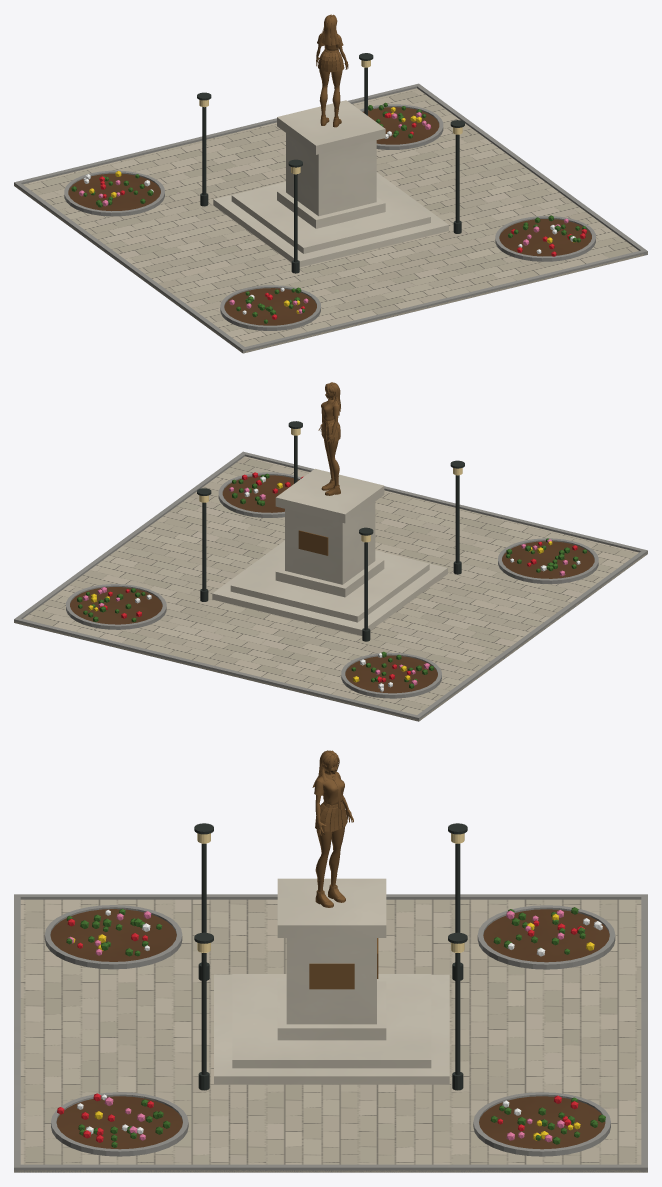
File: dum_09_socha.glb
3 views of the same model, one above another, from view 1: azimuth 30°, elevation 25°; view 2: azimuth 150°, elevation 25°; view 3: azimuth 270°, elevation 25° (orthographic). The views are drawn at different scales.
Parts seen in each view (by area): view 1: dum; view 2: dum; view 3: dum.
Boxes of the visible parts, x1=… form: dum: x1=14, y1=14, x2=647, y2=353; dum: x1=14, y1=382, x2=647, y2=721; dum: x1=14, y1=750, x2=647, y2=1172.
Size of the model in its own units: 13.93 by 6.75 by 13.65.
Materials: 1 (1 with a texture image).
